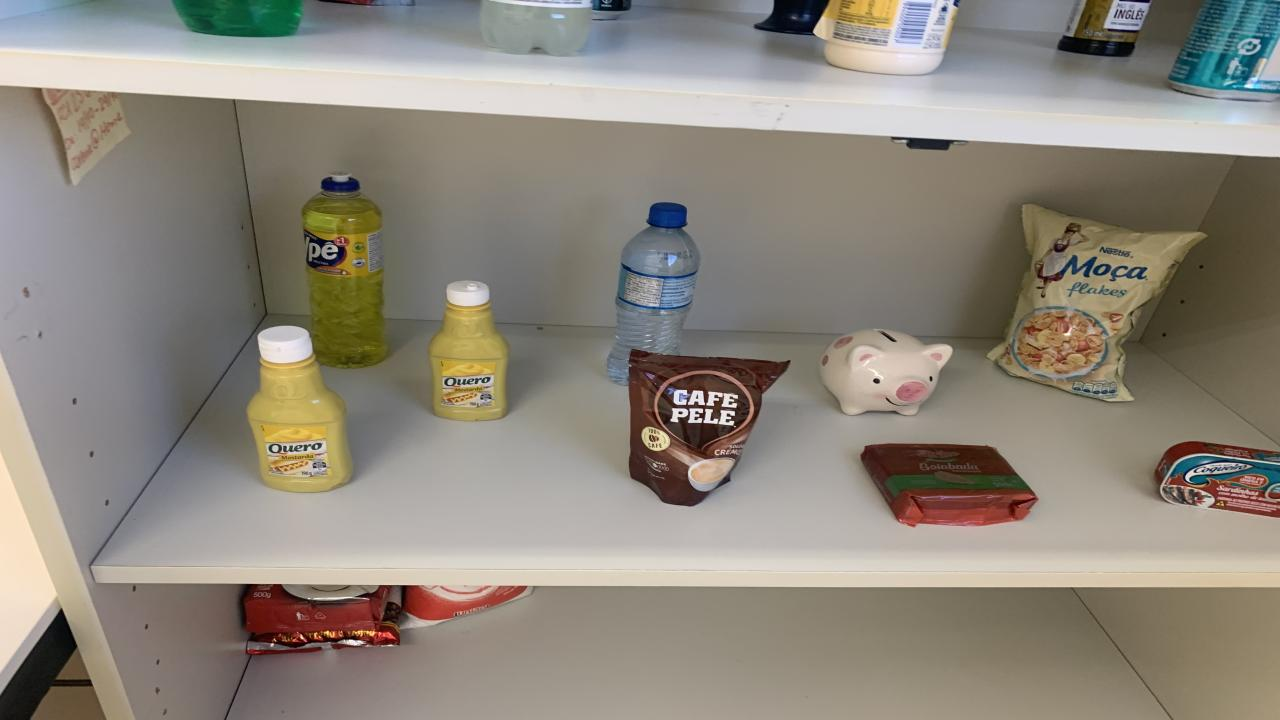Coffee-Pantry_Items: (628, 349, 790, 506)
Detergent-Cleanup_Items: (302, 174, 385, 368), (172, 0, 302, 38)
English_Sauce-Pantry_Items: (1058, 0, 1150, 56)
Flakes-Snacks: (988, 204, 1205, 401)
Guava-Snacks: (860, 444, 1038, 527)
Mayonnaise-Pantry_Items: (812, 0, 958, 75)
Mustard-Pantry_Items: (248, 324, 352, 491), (428, 279, 510, 420)
Pig_Safe-Miscellaneous: (820, 330, 952, 416)
Soda-Drinks: (480, 0, 592, 56)
Tea-Drinks: (1168, 0, 1280, 101)
Tuna_Can-Pantry_Items: (1155, 442, 1280, 518)
Water_Bottle-Drinks: (608, 225, 700, 384)
